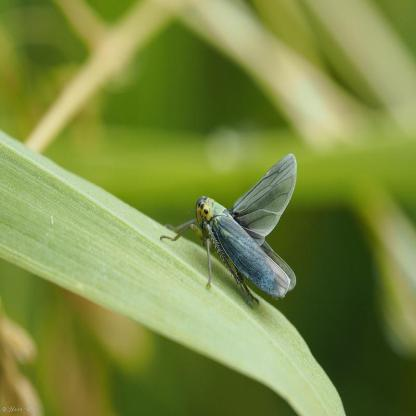Green-Leafhopper: (159, 150, 299, 305)
